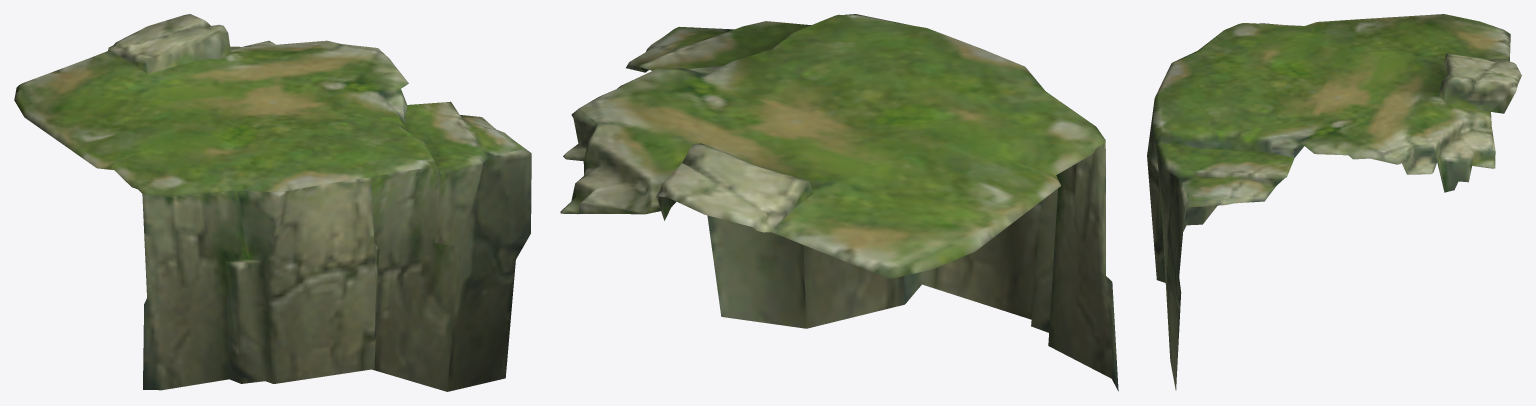
Rendered from S_Rock_Green054_1060_7.fbx.
The picture shows the model from 3 angles, left to right: view 1: azimuth 30°, elevation 25°; view 2: azimuth 150°, elevation 25°; view 3: azimuth 270°, elevation 25°; orthographic projection. The views are drawn at different scales.
Visible parts, largest first — view 1: S_Rock_Green054_1060_7; view 2: S_Rock_Green054_1060_7; view 3: S_Rock_Green054_1060_7.
Boxes of the visible parts, x1,y1,x2,y2 form: S_Rock_Green054_1060_7: [14, 14, 531, 391]; S_Rock_Green054_1060_7: [560, 14, 1118, 391]; S_Rock_Green054_1060_7: [1147, 14, 1521, 390].
Bounding box in the file's own units: 1605 × 1140 × 1526.
1 material, 1 textured.
